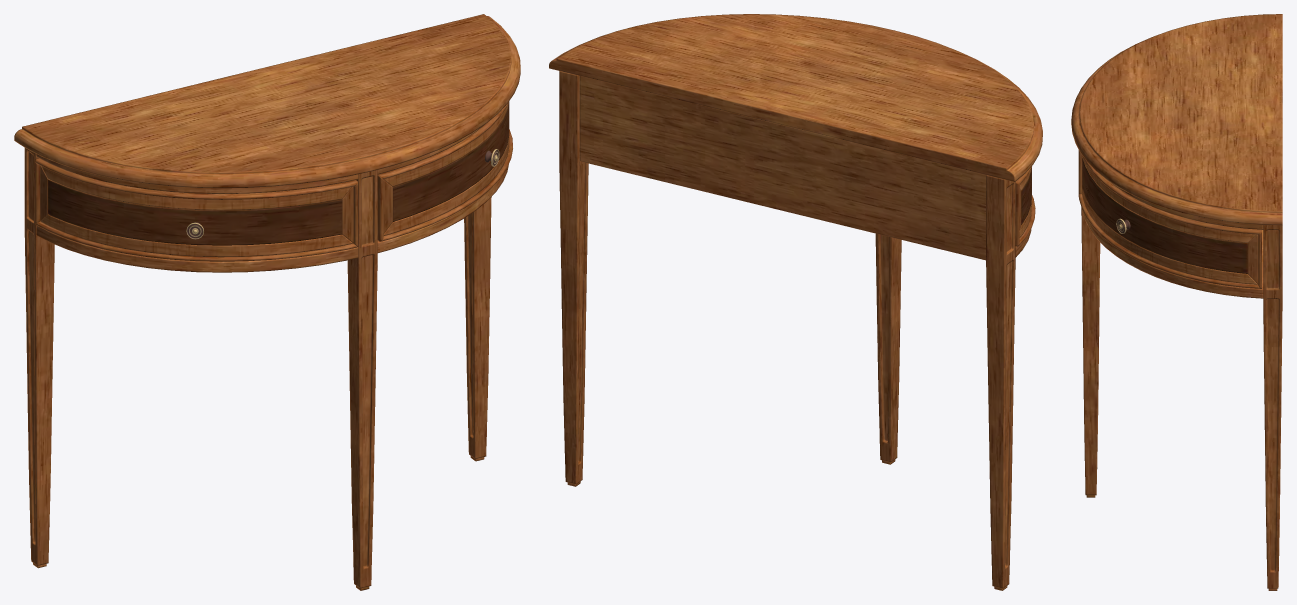
Rendered from medieval-table.glb.
3 views of the same model, side by side, from view 1: azimuth 30°, elevation 25°; view 2: azimuth 150°, elevation 25°; view 3: azimuth 270°, elevation 25° (orthographic). The views are drawn at different scales.
Parts seen in each view (by area): view 1: Table001, DrawerA, DrawerB; view 2: Table001, DrawerA; view 3: Table001, DrawerB.
Part boxes in pixels (x1,y1,x2,y2): Table001: [14, 14, 520, 590]; DrawerA: [35, 158, 357, 261]; DrawerB: [377, 101, 512, 241]; Table001: [549, 14, 1042, 590]; DrawerA: [1015, 166, 1035, 246]; Table001: [1071, 14, 1282, 590]; DrawerB: [1078, 150, 1261, 288].
Size of the model in its own units: 0.8685 by 0.7599 by 0.3802.
1 material, 1 textured.
